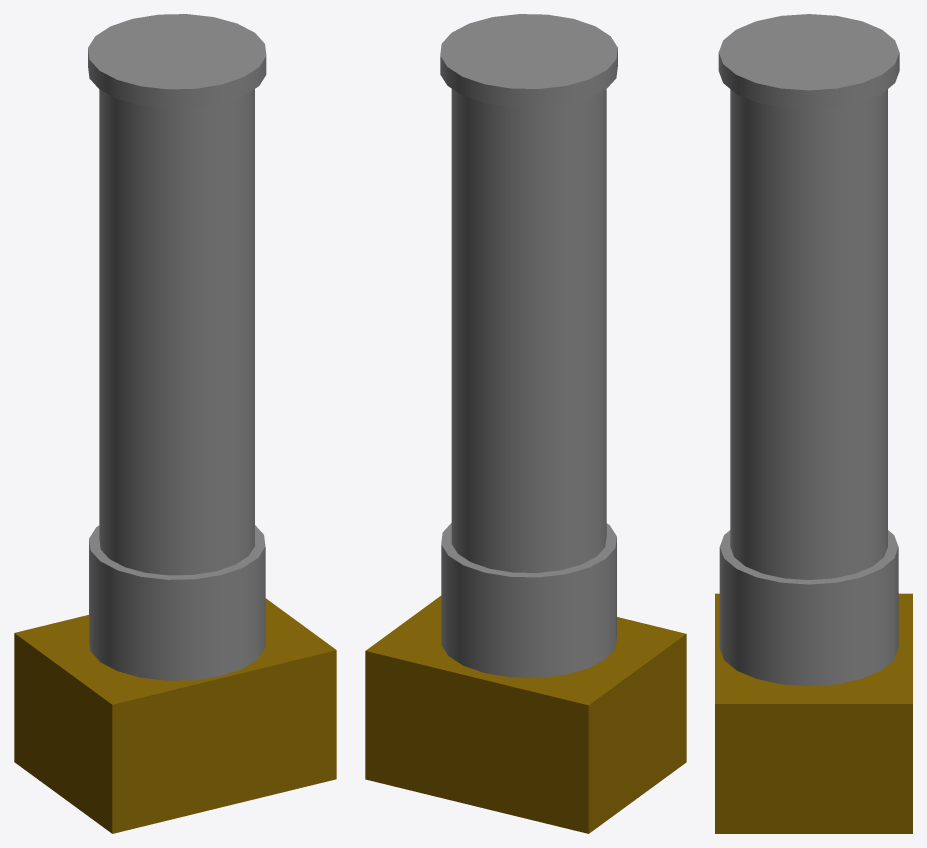
The model's file is barrel_1.fbx.
3 views of the same model, side by side, from view 1: azimuth 30°, elevation 25°; view 2: azimuth 150°, elevation 25°; view 3: azimuth 270°, elevation 25° (orthographic).
Visible parts, largest first — view 1: pCylinder32; view 2: pCylinder32; view 3: pCylinder32.
Boxes of the visible parts, bbox=[...] form: pCylinder32: bbox=[14, 14, 336, 833]; pCylinder32: bbox=[365, 14, 686, 833]; pCylinder32: bbox=[715, 14, 912, 833].
Bounding box in the file's own units: 30.03 × 92.24 × 22.77.
